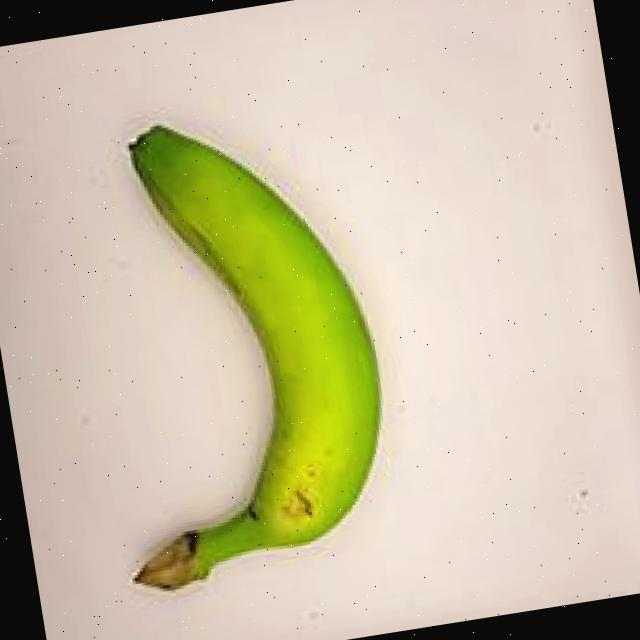Unripe: (26, 75, 426, 626)
